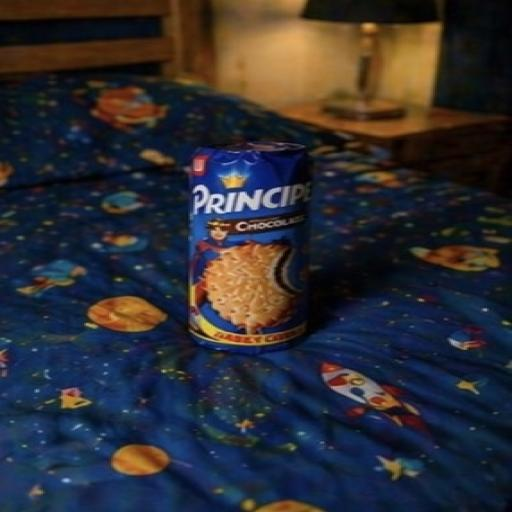prince: (80, 99, 450, 403)
